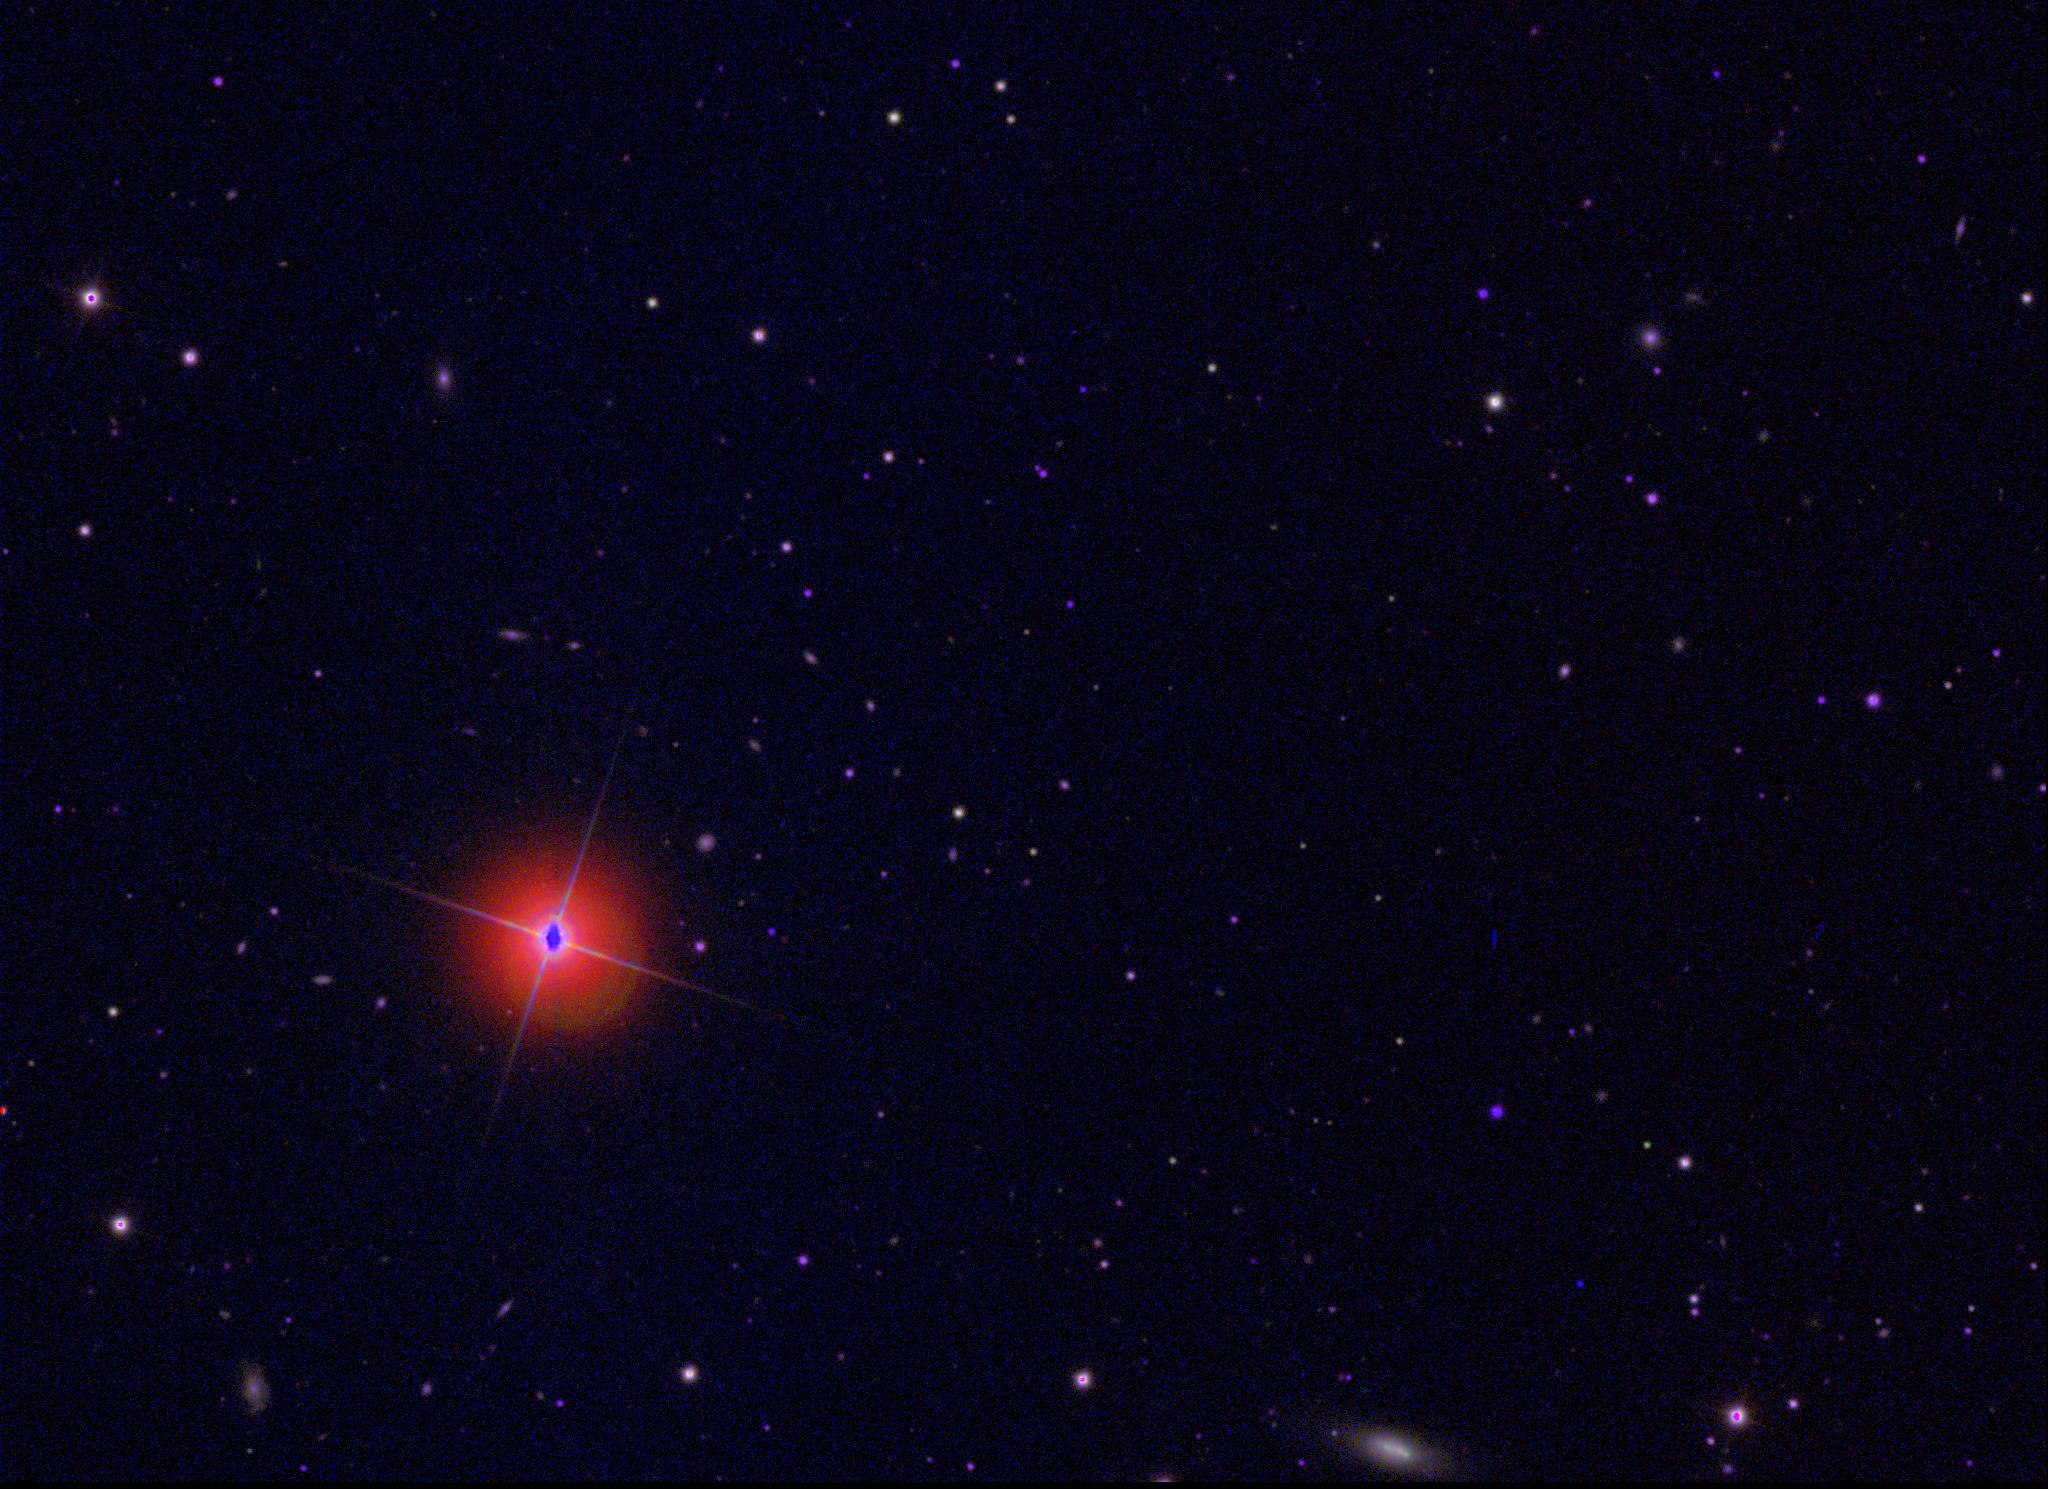L: (1574, 1274, 1588, 1289)
